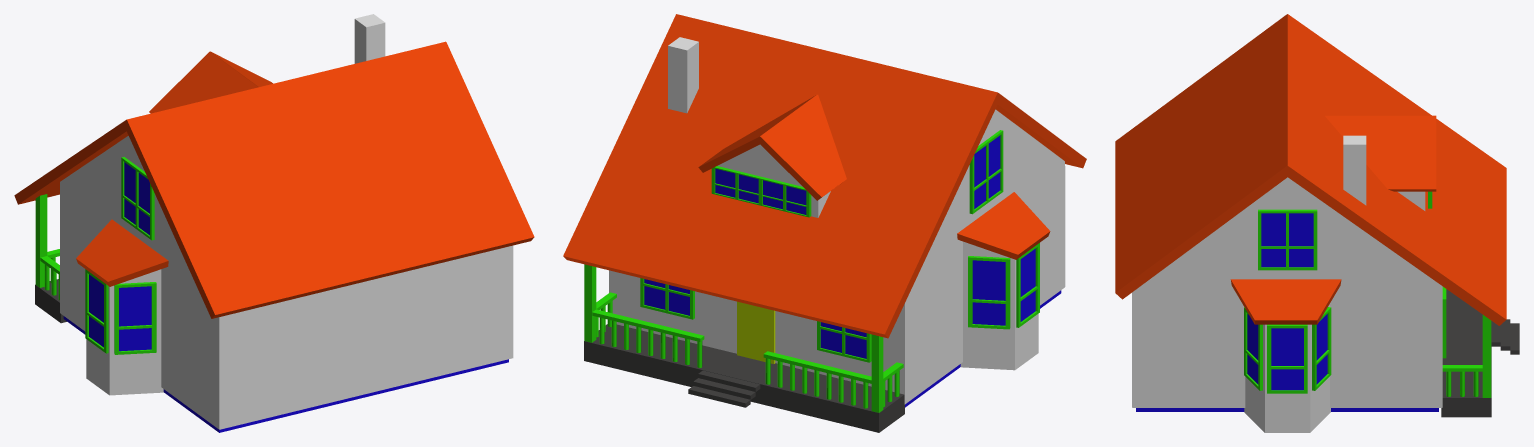
Rendered from USAHouse_02.fbx.
3 views of the same model, side by side, from view 1: azimuth 30°, elevation 25°; view 2: azimuth 150°, elevation 25°; view 3: azimuth 270°, elevation 25° (orthographic). The views are drawn at different scales.
Visible parts, largest first — view 1: USHouse_02; view 2: USHouse_02; view 3: USHouse_02.
Part boxes in pixels (bbox=[...]): USHouse_02: bbox=[14, 14, 534, 432]; USHouse_02: bbox=[563, 14, 1086, 432]; USHouse_02: bbox=[1115, 14, 1519, 432].
Bounding box in the file's own units: 832 × 551 × 766.
